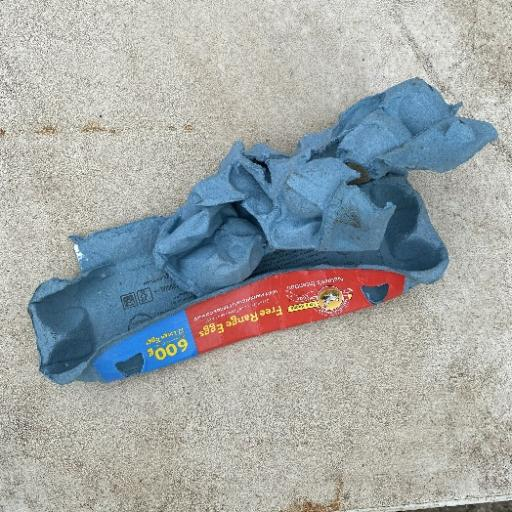Cardboard: (26, 75, 498, 385)
